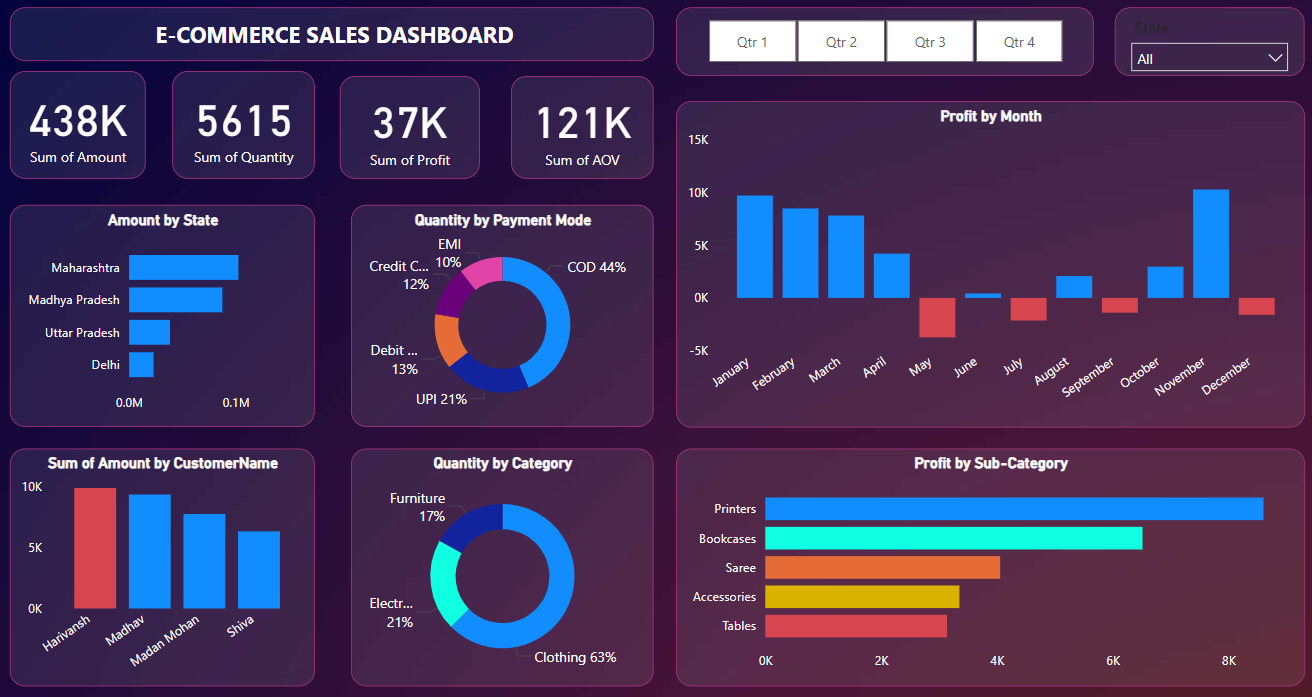

Layout of this report page (visuals, bound fields, positions):
{"tool":"powerbi","page":{"name":"Page 1","canvas":[1280,720],"ordinal":0},"visuals":[{"type":"textbox","box":[18.1,10.9,621.3,51.9],"z":0},{"type":"columnChart","title":"Profit by Month","fields":{"Category":["Orders.Order Date.Variation.Date Hierarchy.Month"],"Y":["Details.Profit"]},"box":[661.1,101.3,606.8,314.9],"z":1000},{"type":"barChart","title":" Profit by Sub-Category","fields":{"Category":["Details.Sub-Category"],"Y":["Details.Profit"]},"box":[661.1,436.7,606.8,229.2],"z":2000},{"type":"donutChart","title":"Quantity by Category","fields":{"Category":["Details.Category"],"Y":["Details.Quantity"]},"box":[347.5,436.7,292,229.2],"z":3000},{"type":"donutChart","title":"Quantity by Payment Mode","fields":{"Category":["Details.PaymentMode","Details.Category"],"Y":["Details.Quantity"]},"box":[347.5,201.5,292,214.7],"z":4000},{"type":"card","fields":{"Values":["Details.Amount"]},"box":[18.1,72.4,131.5,103.8],"z":5000},{"type":"card","fields":{"Values":["Details.Quantity"]},"box":[174.9,72.4,137.5,103.8],"z":6000},{"type":"card","fields":{"Values":["Details.Profit"]},"box":[336.6,77.2,135.1,98.9],"z":7000},{"type":"card","fields":{"Values":["Details.AOV"]},"box":[501.9,77.2,137.5,98.9],"z":8000},{"type":"barChart","title":" Amount by State","fields":{"Category":["Orders.State"],"Y":["Details.Amount"]},"box":[18.1,201.5,294.4,214.7],"z":9000},{"type":"columnChart","fields":{"Category":["Orders.CustomerName"],"Y":["Details.Amount"]},"box":[18.1,436.7,294.4,229.2],"z":10000},{"type":"slicer","fields":{"Values":["Orders.Order Date.Variation.Date Hierarchy.Quarter"]},"box":[661.1,10.9,403,66.4],"z":11000},{"type":"slicer","fields":{"Values":["Orders.State"]},"box":[1084.6,10.9,183.4,66.4],"z":12000}]}

Visuals, with their boxes on the page's 1280x720 design canvas (x1, y1, x2, y2). These are canvas units, not pixel positions in the 1312x697 screenshot, which may show the page scaled, cropped or inside an application window:
textbox: bbox=[18, 11, 639, 63]
"Profit by Month" columnChart: bbox=[661, 101, 1268, 416]
" Profit by Sub-Category" barChart: bbox=[661, 437, 1268, 666]
"Quantity by Category" donutChart: bbox=[348, 437, 640, 666]
"Quantity by Payment Mode" donutChart: bbox=[348, 202, 640, 416]
card - Details.Amount: bbox=[18, 72, 150, 176]
card - Details.Quantity: bbox=[175, 72, 312, 176]
card - Details.Profit: bbox=[337, 77, 472, 176]
card - Details.AOV: bbox=[502, 77, 639, 176]
" Amount by State" barChart: bbox=[18, 202, 312, 416]
columnChart - Orders.CustomerName x Details.Amount: bbox=[18, 437, 312, 666]
slicer - Orders.Order Date.Variation.Date Hierarchy.Quarter: bbox=[661, 11, 1064, 77]
slicer - Orders.State: bbox=[1085, 11, 1268, 77]
